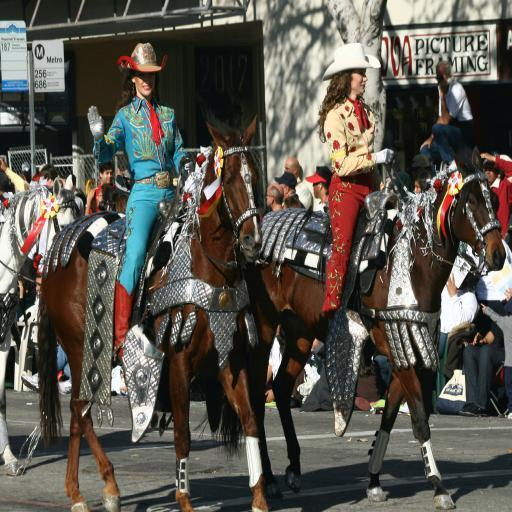horse: (192, 143, 508, 512), (35, 111, 273, 512), (0, 175, 82, 478)
